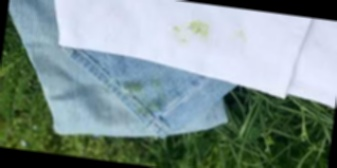earth: (174, 17, 210, 38), (138, 97, 162, 116), (122, 78, 142, 94)
